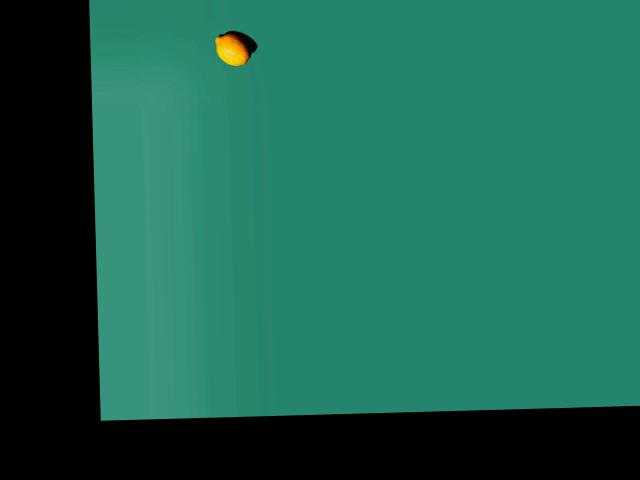lemon: (212, 27, 260, 66)
